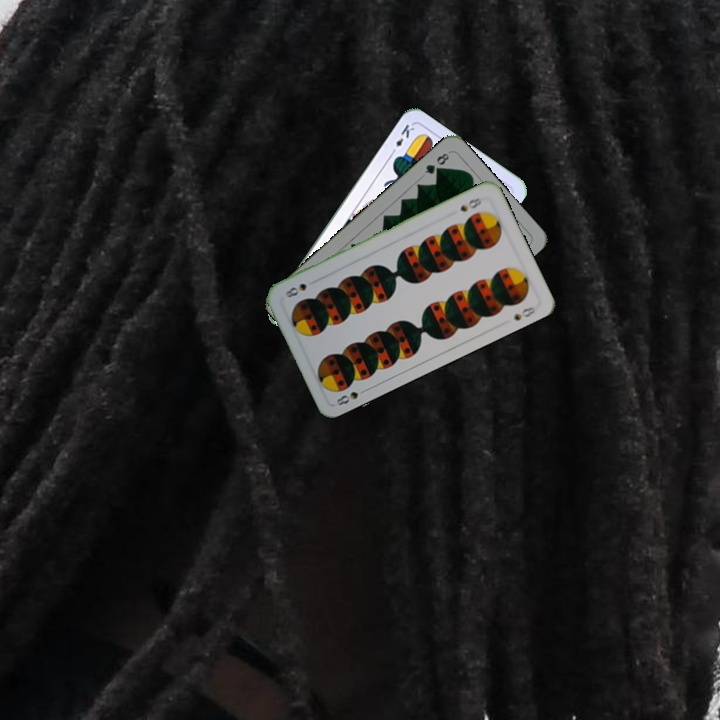EK: (387, 120, 417, 157)
G8: (421, 149, 453, 177)
S8: (332, 384, 370, 408), (456, 193, 484, 215)
